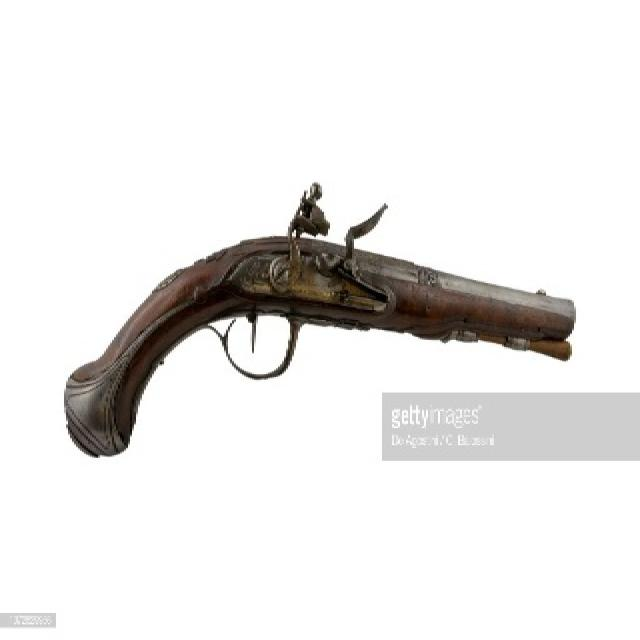handgun: (62, 179, 576, 455)
